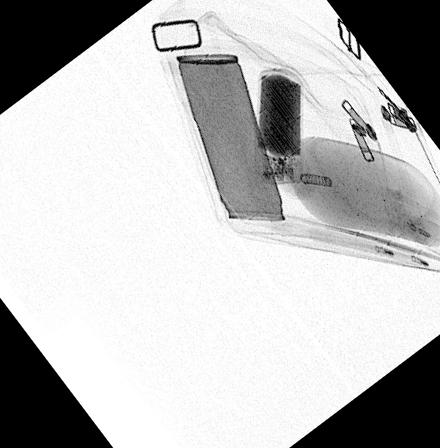Powerbank: (250, 70, 304, 184)
